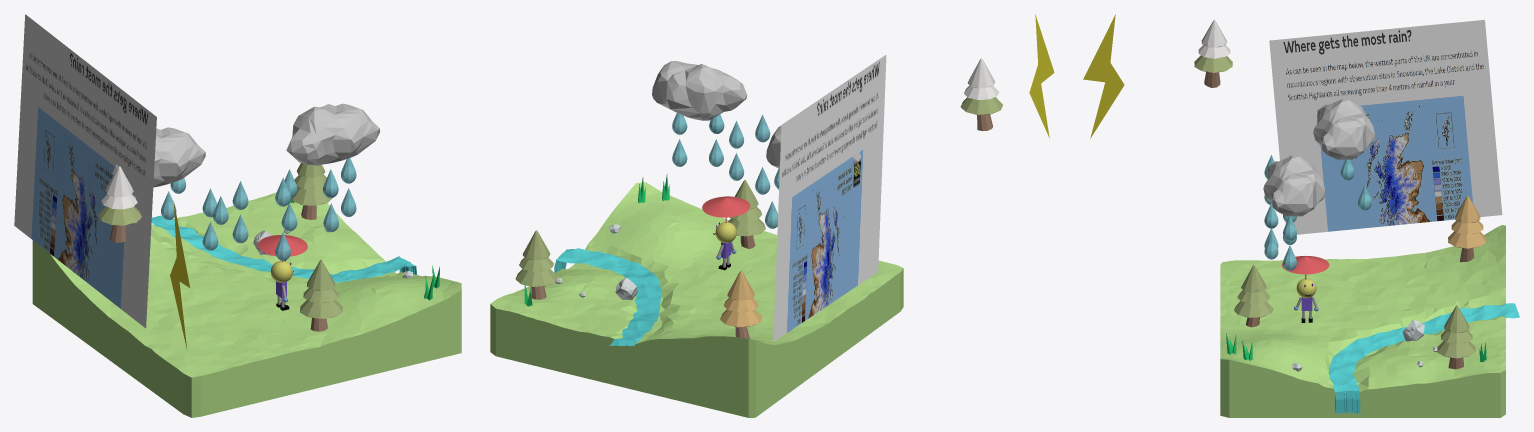
3 views of the same model, side by side, from view 1: azimuth 30°, elevation 25°; view 2: azimuth 150°, elevation 25°; view 3: azimuth 270°, elevation 25° (orthographic). The views are drawn at different scales.
Visible parts, largest first — view 1: terrain, pPlane2, clouds:pPlatonic1, water, cloud, Thunder, umbrella:Mesh, trees:pCylinder12, pCylinder1, pCylinder4, trees:pCylinder11, trees:pCylinder1 (+2 smaller); view 2: terrain, pPlane2, clouds:pPlatonic1, water, Thunder, umbrella:Mesh, trees:pCylinder8, trees:pCylinder1, trees:pCylinder12, cloud, trees:pCylinder11; view 3: terrain, pPlane2, water, clouds:pPlatonic1, cloud, Thunder, umbrella:Mesh, trees:pCylinder12, pCylinder1, trees:pCylinder8, trees:pCylinder1, trees:pCylinder4 (+3 smaller).
Boxes of the visible parts, left/top/right/bottom form: terrain: left=32, top=192, right=461, bottom=417; pPlane2: left=14, top=14, right=156, bottom=328; clouds:pPlatonic1: left=286, top=103, right=379, bottom=165; water: left=151, top=215, right=416, bottom=282; cloud: left=112, top=127, right=205, bottom=187; Thunder: left=170, top=201, right=189, bottom=350; umbrella:Mesh: left=258, top=235, right=307, bottom=261; trees:pCylinder12: left=98, top=206, right=141, bottom=225; pCylinder1: left=300, top=300, right=343, bottom=318; pCylinder4: left=307, top=259, right=335, bottom=291; trees:pCylinder11: left=105, top=166, right=133, bottom=197; trees:pCylinder1: left=291, top=187, right=332, bottom=205; terrain: left=490, top=182, right=903, bottom=417; pPlane2: left=773, top=55, right=886, bottom=341; clouds:pPlatonic1: left=652, top=61, right=747, bottom=120; water: left=554, top=248, right=661, bottom=345; Thunder: left=1029, top=14, right=1054, bottom=137; umbrella:Mesh: left=702, top=196, right=750, bottom=222; trees:pCylinder8: left=720, top=309, right=762, bottom=327; trees:pCylinder1: left=515, top=269, right=557, bottom=286; trees:pCylinder12: left=960, top=97, right=1002, bottom=114; cloud: left=766, top=125, right=861, bottom=168; trees:pCylinder11: left=967, top=58, right=995, bottom=88; terrain: left=1220, top=225, right=1505, bottom=417; pPlane2: left=1269, top=20, right=1502, bottom=234; water: left=1328, top=303, right=1519, bottom=413; clouds:pPlatonic1: left=1263, top=155, right=1324, bottom=216; cloud: left=1313, top=99, right=1374, bottom=159; Thunder: left=1083, top=14, right=1124, bottom=138; umbrella:Mesh: left=1282, top=255, right=1329, bottom=279; trees:pCylinder12: left=1194, top=55, right=1232, bottom=72; pCylinder1: left=1234, top=301, right=1273, bottom=317; trees:pCylinder8: left=1448, top=231, right=1486, bottom=248; trees:pCylinder1: left=1437, top=341, right=1475, bottom=358; trees:pCylinder4: left=1444, top=305, right=1469, bottom=333.
Size of the model in its own units: 46.76 by 35.04 by 51.41.
20 materials, 1 textured.
